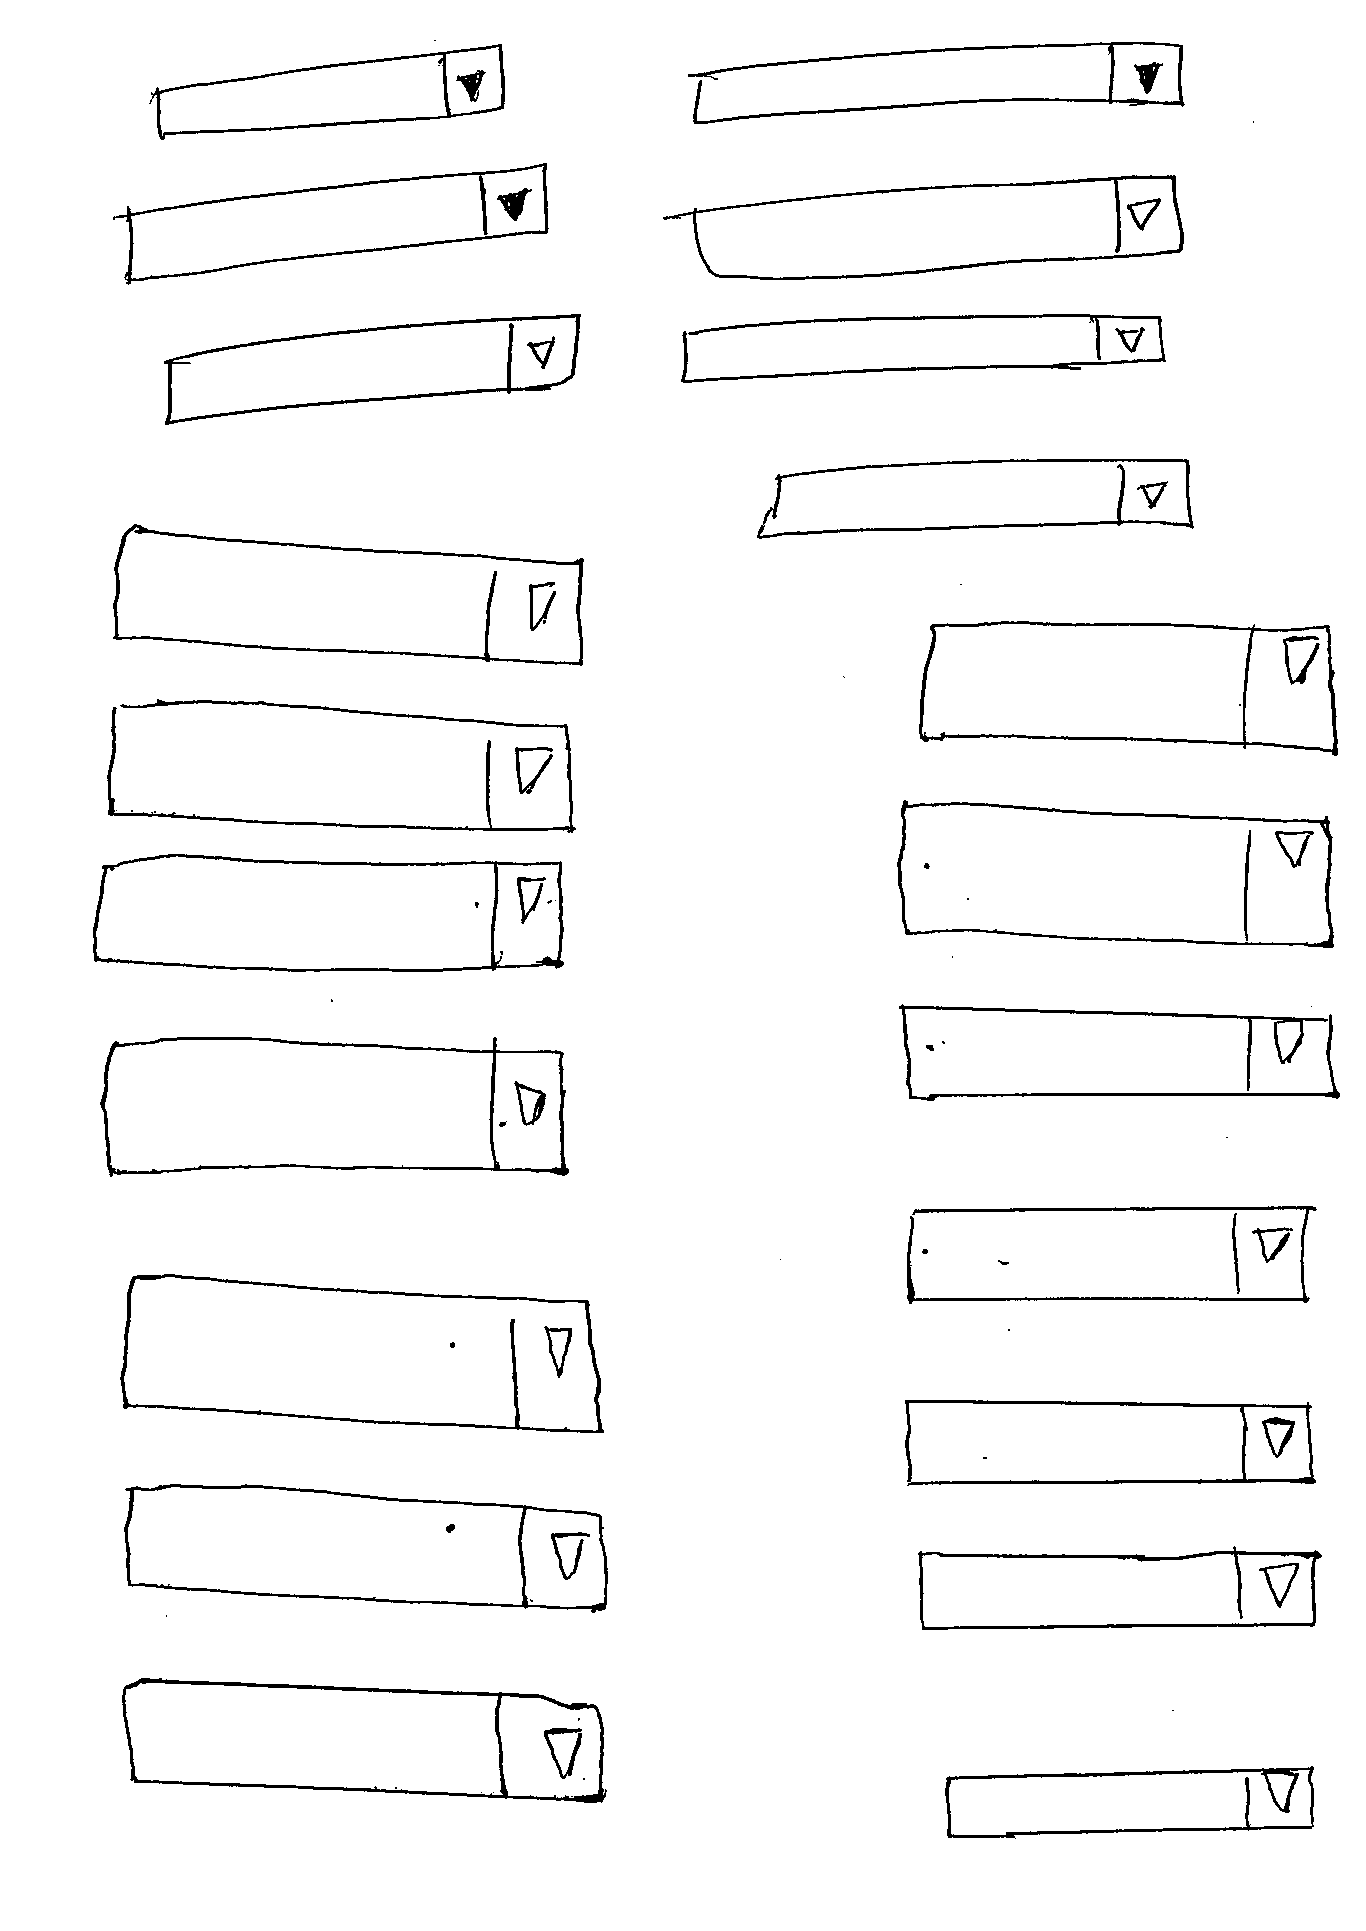Select: (121, 1484, 609, 1613), (120, 1677, 608, 1804), (690, 174, 1186, 282), (126, 163, 548, 287), (163, 312, 582, 427), (899, 1004, 1341, 1102), (905, 1202, 1316, 1306), (690, 41, 1186, 127), (903, 1399, 1316, 1487), (755, 457, 1195, 540), (679, 312, 1166, 384), (152, 41, 506, 140), (918, 1550, 1323, 1632), (945, 1764, 1317, 1841)
